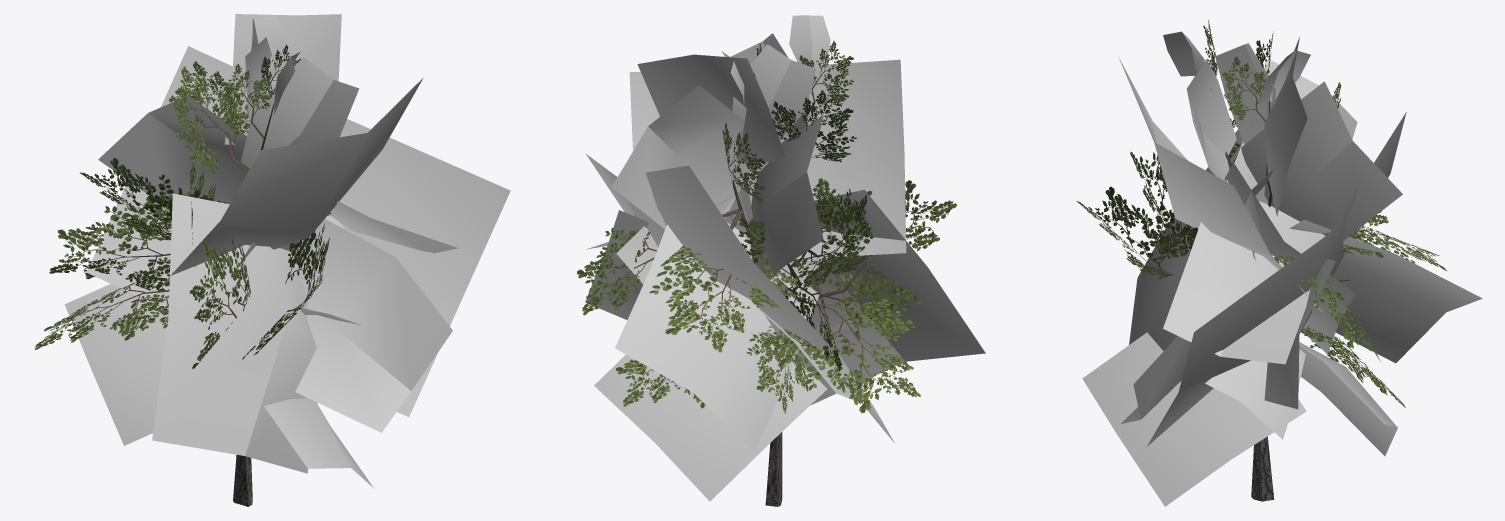
The model's file is tree00.fbx.
3 renders of one model, left to right at view 1: azimuth 30°, elevation 25°; view 2: azimuth 150°, elevation 25°; view 3: azimuth 270°, elevation 25°, orthographic. The views are drawn at different scales.
Parts seen in each view (by area): view 1: tree00leaf-LOD00, tree00trunk-LOD00; view 2: tree00leaf-LOD00, tree00trunk-LOD00; view 3: tree00leaf-LOD00, tree00trunk-LOD00.
Boxes of the visible parts, <box> form: tree00leaf-LOD00: <box>34,14,510,487</box>; tree00trunk-LOD00: <box>233,80,273,506</box>; tree00leaf-LOD00: <box>577,15,985,501</box>; tree00trunk-LOD00: <box>732,98,808,506</box>; tree00leaf-LOD00: <box>1076,20,1482,506</box>; tree00trunk-LOD00: <box>1195,73,1274,501</box>.
Size of what is drawn, in the model's own units: 727 by 751 by 621.
